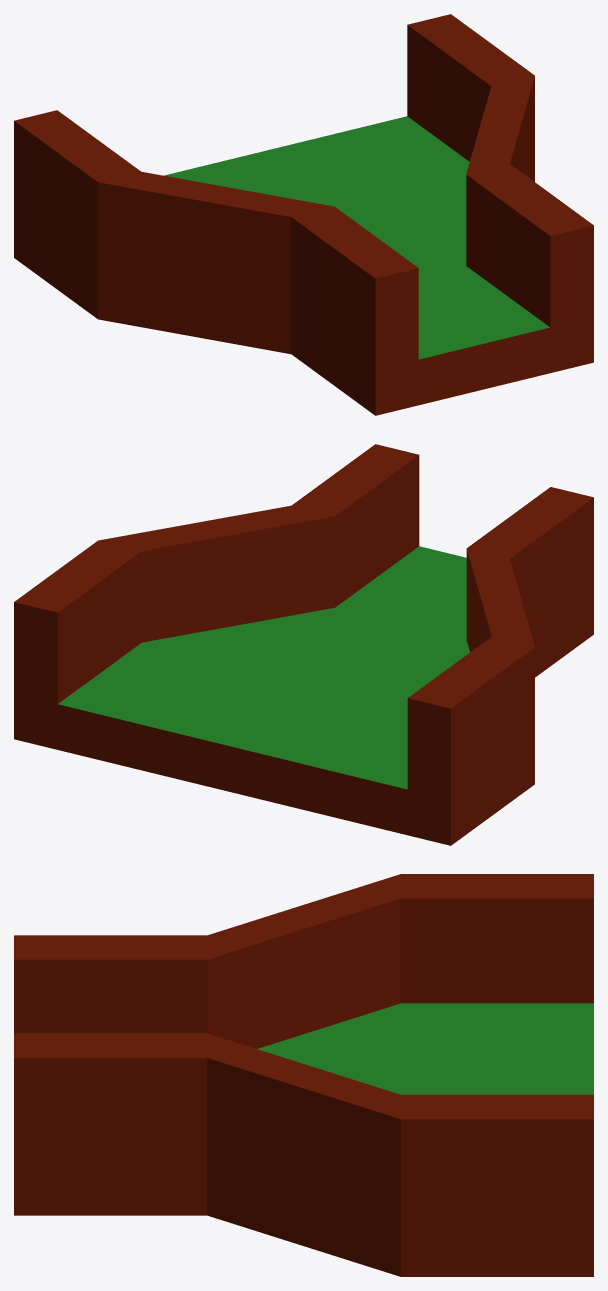
Rendered from ThickThinThin.obj.
The picture shows the model from 3 angles, top to bottom: view 1: azimuth 30°, elevation 25°; view 2: azimuth 150°, elevation 25°; view 3: azimuth 270°, elevation 25°; orthographic projection. The views are drawn at different scales.
Parts seen in each view (by area): view 1: ThickThinThin; view 2: ThickThinThin; view 3: ThickThinThin.
Boxes of the visible parts, x1,y1,x2,y2 form: ThickThinThin: (14, 14, 593, 415); ThickThinThin: (14, 444, 593, 845); ThickThinThin: (14, 874, 593, 1276).
Size of the model in its own units: 2 by 0.6 by 2.
